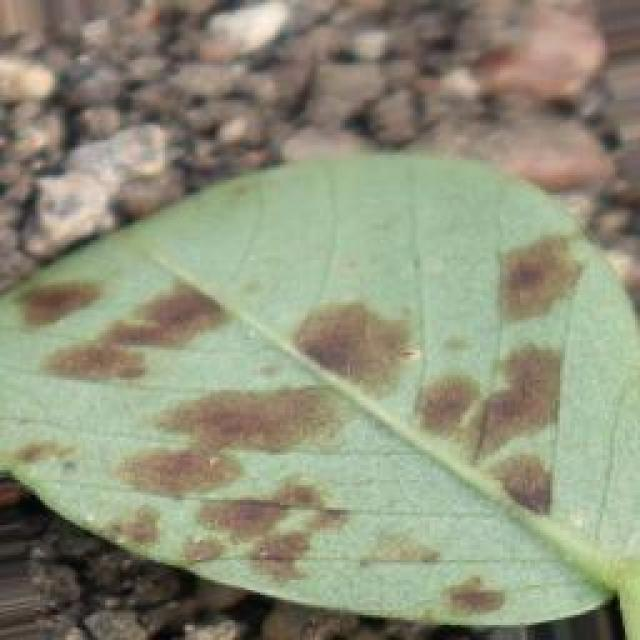Whitefly: (0, 209, 617, 621)
